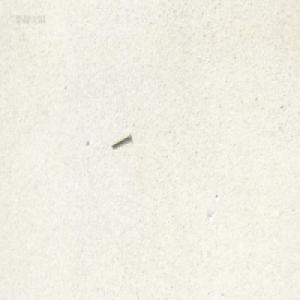Bolt: (111, 132, 131, 148)
